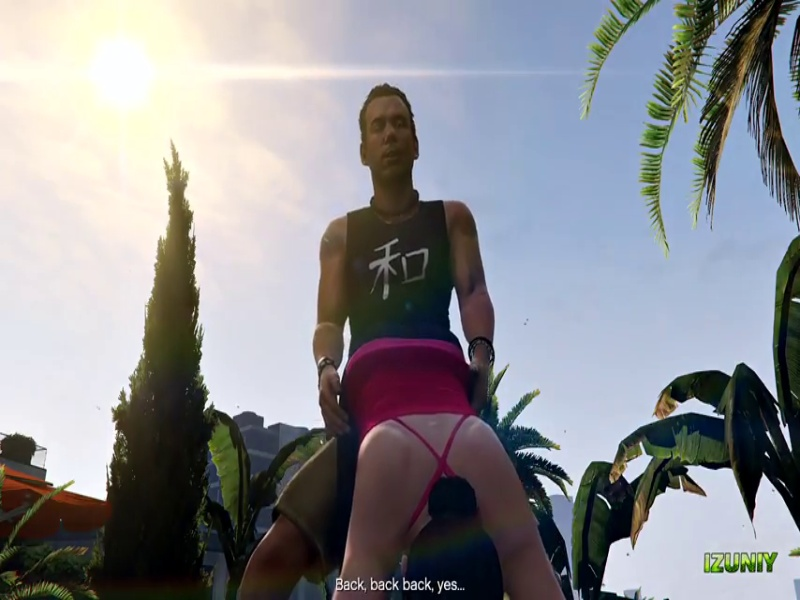human: (233, 165, 579, 592)
